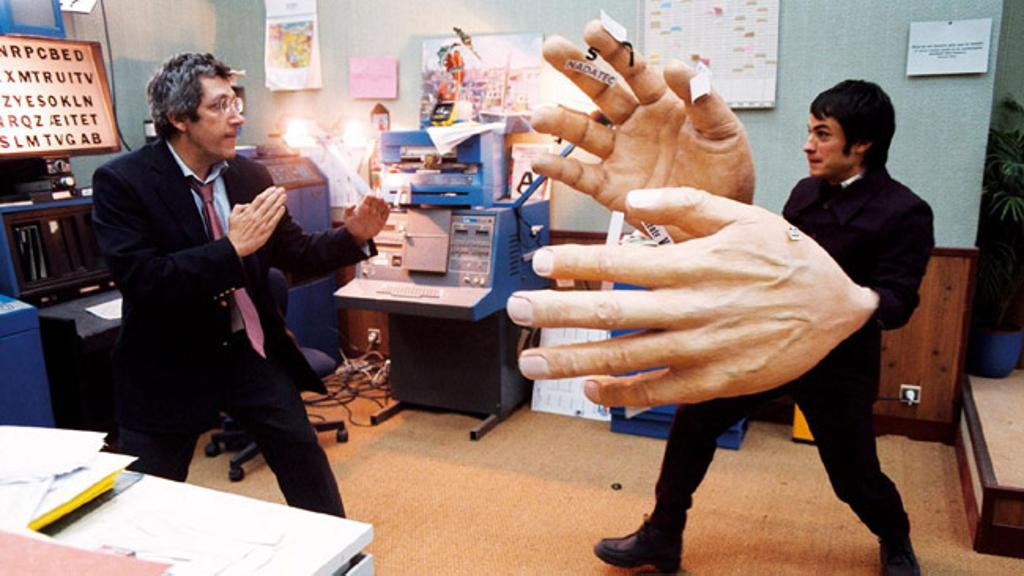face: (187, 76, 245, 159), (802, 115, 850, 176)
